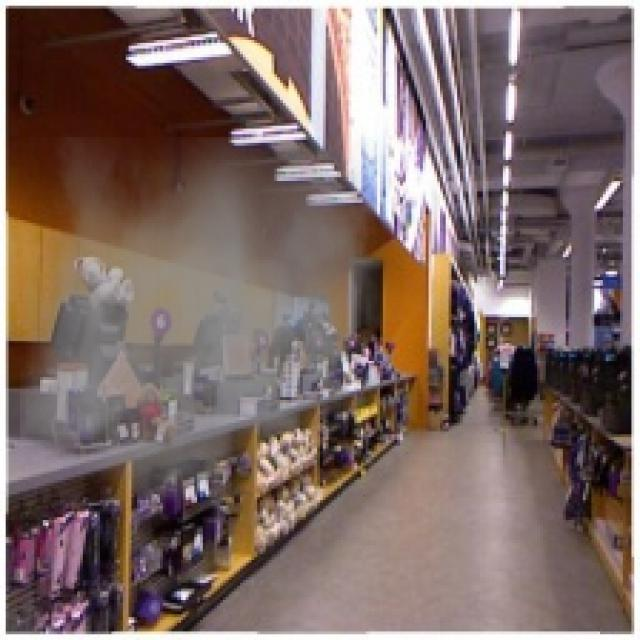smoke: (20, 137, 377, 520)
